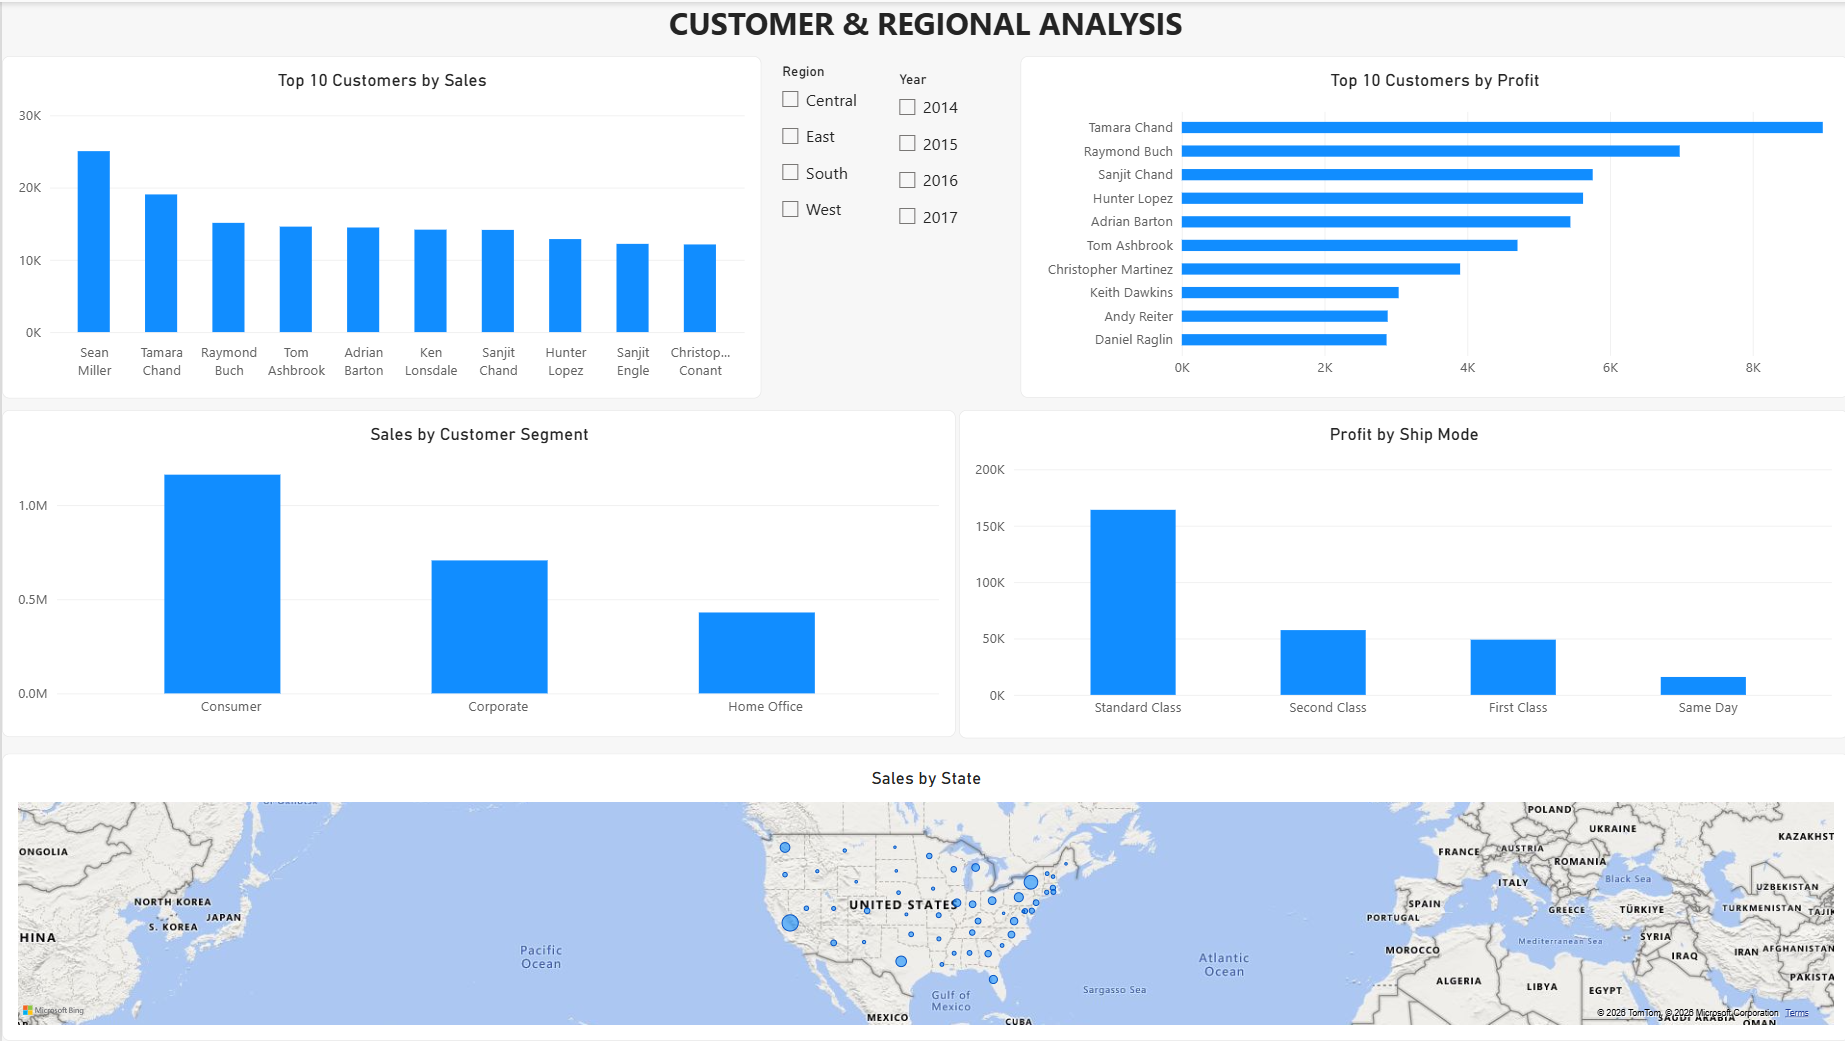

What the dashboard file says about the page in this screenshot:
{"tool":"powerbi","page":{"name":"Customer & Regional Analysis","canvas":[1920,1080],"ordinal":2},"visuals":[{"type":"clusteredColumnChart","title":"Sales by Customer Segment","fields":{"Category":["Superstore_Cleaned.Segment"],"Y":["Superstore_Cleaned.Total Sales"]},"box":[0,424.1,978.5,340.7],"z":0},{"type":"clusteredColumnChart","title":"Top 10 Customers by Sales","fields":{"Category":["Superstore_Cleaned.Customer Name"],"Y":["Superstore_Cleaned.Total Sales"]},"box":[0,55.6,789.1,356.3],"z":1000},{"type":"map","title":"Sales by State","fields":{"Category":["Superstore_Cleaned.State"],"Size":["Superstore_Cleaned.Total Sales"]},"box":[0,780.4,1920.6,299],"z":2000},{"type":"slicer","title":"Profit by Ship Mode","fields":{"Values":["Superstore_Cleaned.Year"]},"box":[924.7,71.3,133.8,175.5],"z":3000},{"type":"clusteredBarChart","title":"Top 10 Customers by Profit","fields":{"Category":["Superstore_Cleaned.Customer Name"],"Y":["Superstore_Cleaned.Total Profit"]},"box":[1058.5,55.6,796,356.3],"z":4000},{"type":"textbox","box":[0,0,1920.6,55.6],"z":5000},{"type":"slicer","fields":{"Values":["Superstore_Cleaned.Region"]},"box":[803,64.3,121.7,175.5],"z":6000},{"type":"clusteredColumnChart","title":"Profit by Ship Mode","fields":{"Category":["Superstore_Cleaned.Ship Mode"],"Y":["Superstore_Cleaned.Total Profit"]},"box":[994.2,424.1,878,341],"z":6001}]}

Visuals, with their boxes in screenshot pixels (x1, y1, x2, y2), scaled from the page's 1920x1080 canvas onto the 1845x1041 screenshot:
"Sales by Customer Segment" clusteredColumnChart: bbox=[0, 409, 940, 737]
"Top 10 Customers by Sales" clusteredColumnChart: bbox=[0, 54, 758, 397]
"Sales by State" map: bbox=[0, 752, 1844, 1040]
"Profit by Ship Mode" slicer: bbox=[889, 69, 1017, 238]
"Top 10 Customers by Profit" clusteredBarChart: bbox=[1017, 54, 1782, 397]
textbox: bbox=[0, 0, 1844, 54]
slicer - Superstore_Cleaned.Region: bbox=[772, 62, 889, 231]
"Profit by Ship Mode" clusteredColumnChart: bbox=[955, 409, 1799, 737]
